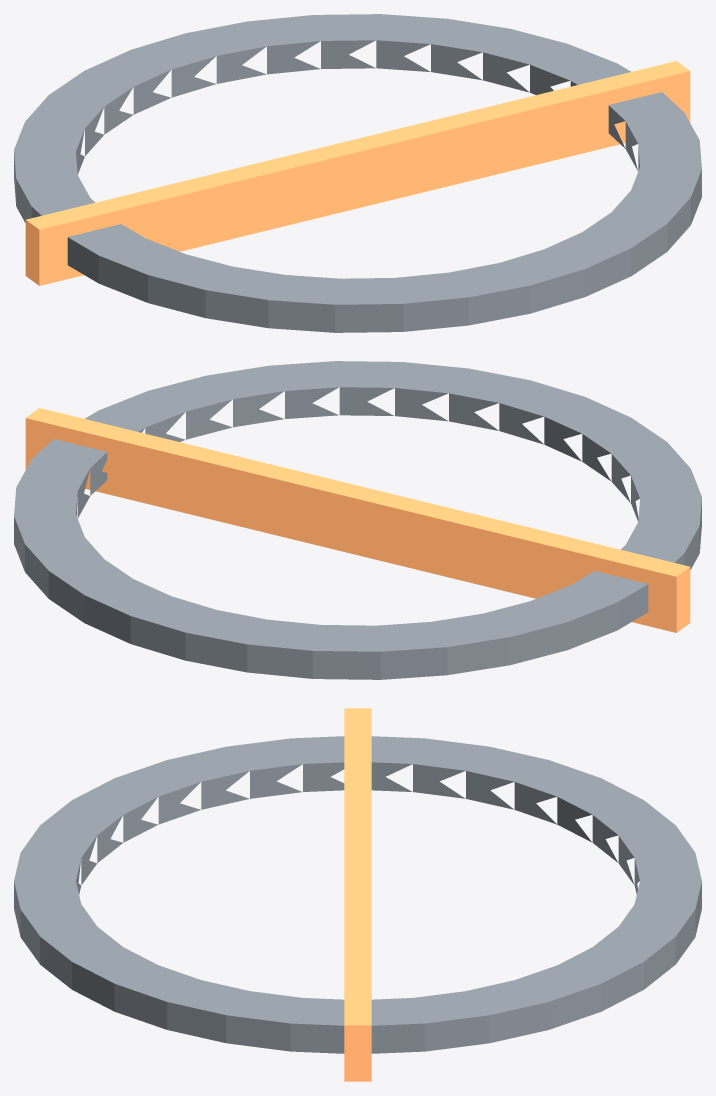
The model's file is render.glb.
3 renders of one model, top to bottom at view 1: azimuth 30°, elevation 25°; view 2: azimuth 150°, elevation 25°; view 3: azimuth 270°, elevation 25°, orthographic.
Parts seen in each view (by area): view 1: FalseGateRing, WeldedDiameterBar; view 2: FalseGateRing, WeldedDiameterBar; view 3: FalseGateRing, WeldedDiameterBar.
Boxes of the visible parts, x1,y1,x2,y2 form: FalseGateRing: [14, 14, 701, 332]; WeldedDiameterBar: [25, 61, 690, 285]; FalseGateRing: [14, 361, 701, 679]; WeldedDiameterBar: [25, 408, 690, 632]; FalseGateRing: [14, 736, 701, 1053]; WeldedDiameterBar: [344, 708, 371, 1081].
Bounding box in the file's own units: 2.18 × 0.18 × 2.
